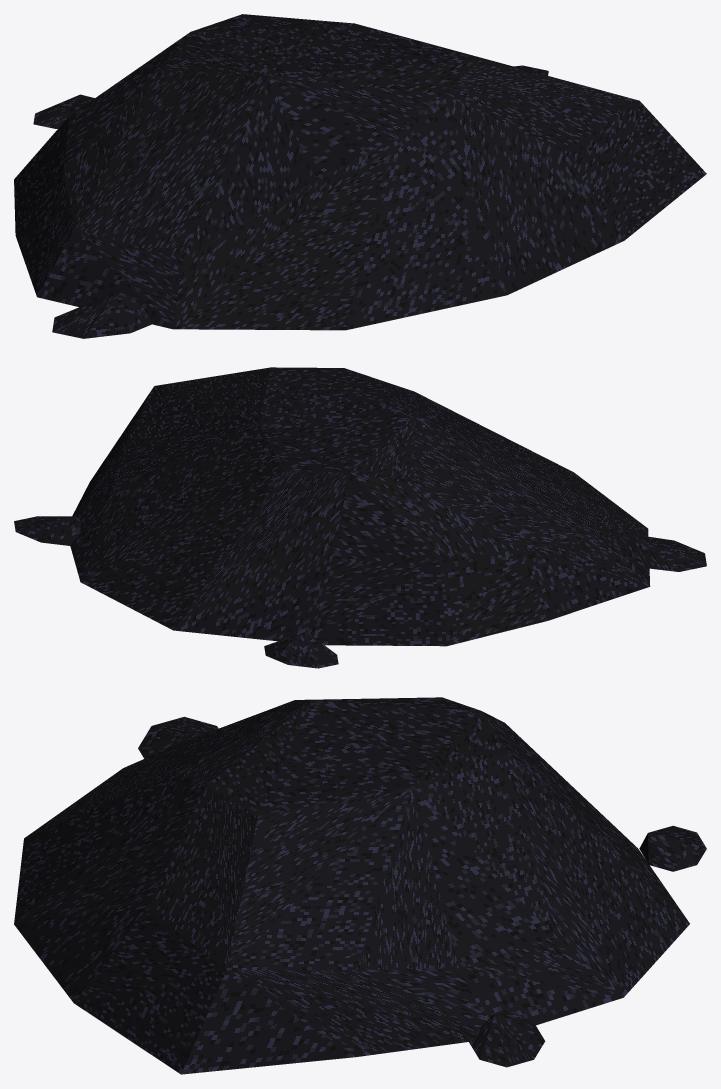
File: mon_blob.glb
3 views of the same model, one above another, from view 1: azimuth 30°, elevation 25°; view 2: azimuth 150°, elevation 25°; view 3: azimuth 270°, elevation 25° (orthographic). The views are drawn at different scales.
Parts seen in each view (by area): view 1: block_ooze-body, block_ooze-trail-0, block_ooze-trail-2; view 2: block_ooze-body, block_ooze-trail-0, block_ooze-trail-2, block_ooze-trail-1; view 3: block_ooze-body, block_ooze-trail-1, block_ooze-trail-2, block_ooze-trail-0.
Part boxes in pixels (bbox=[...]): block_ooze-body: bbox=[14, 14, 706, 330]; block_ooze-trail-0: bbox=[52, 292, 151, 338]; block_ooze-trail-2: bbox=[33, 94, 94, 128]; block_ooze-body: bbox=[70, 367, 650, 646]; block_ooze-trail-0: bbox=[633, 535, 706, 571]; block_ooze-trail-2: bbox=[264, 632, 338, 668]; block_ooze-trail-1: bbox=[14, 516, 80, 545]; block_ooze-body: bbox=[14, 697, 689, 1074]; block_ooze-trail-1: bbox=[469, 1011, 545, 1067]; block_ooze-trail-2: bbox=[639, 825, 706, 871]; block_ooze-trail-0: bbox=[138, 716, 218, 758].
Bounding box in the file's own units: 1.01 × 0.217 × 0.825.
1 material, 1 textured.
